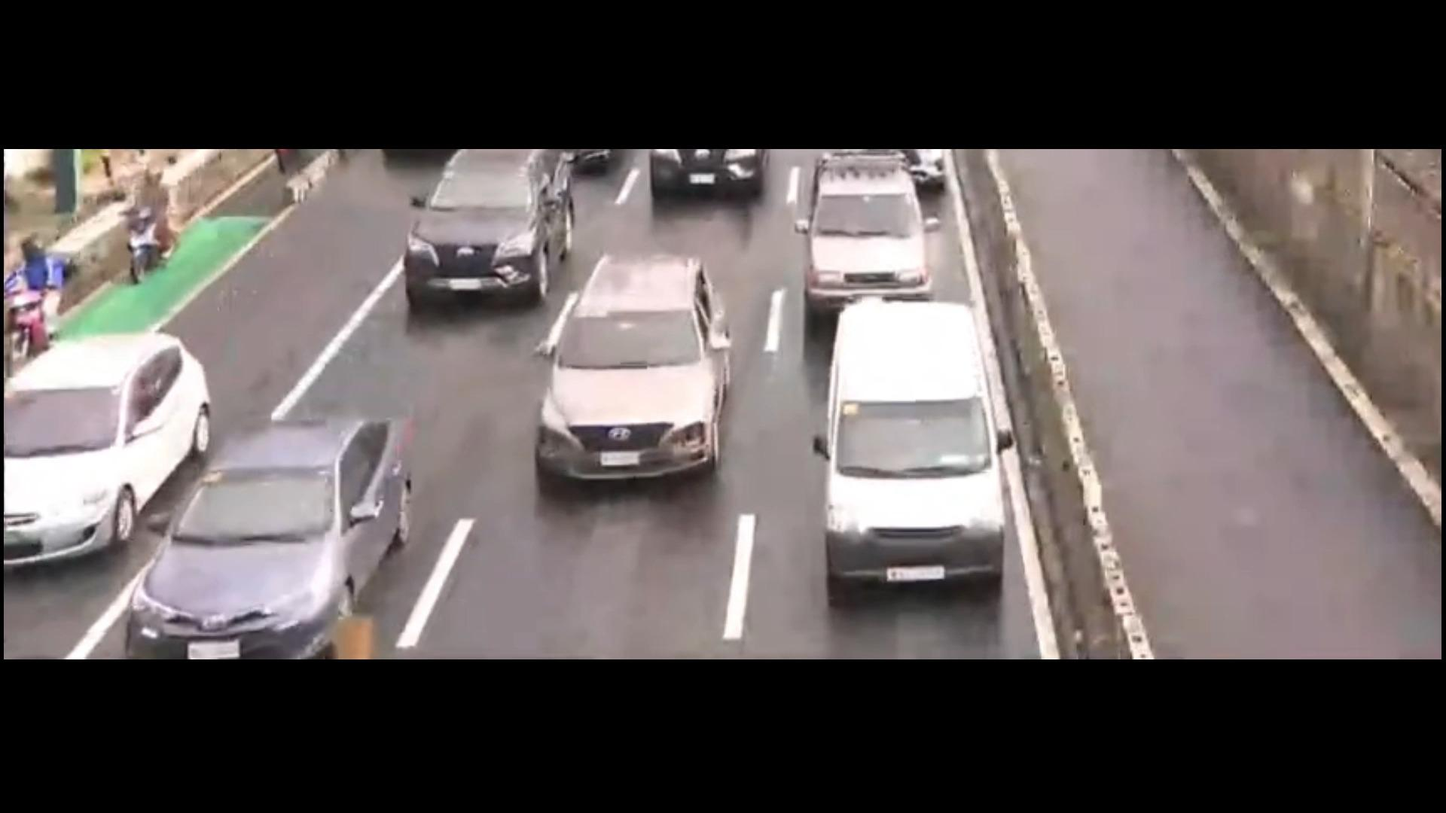Motorcycle: (0, 228, 79, 368), (123, 151, 207, 282)
SUV: (510, 247, 742, 508), (388, 155, 582, 337), (802, 155, 948, 310)
Sedan: (81, 399, 435, 660), (0, 315, 215, 560)
Van: (804, 294, 1002, 601)
